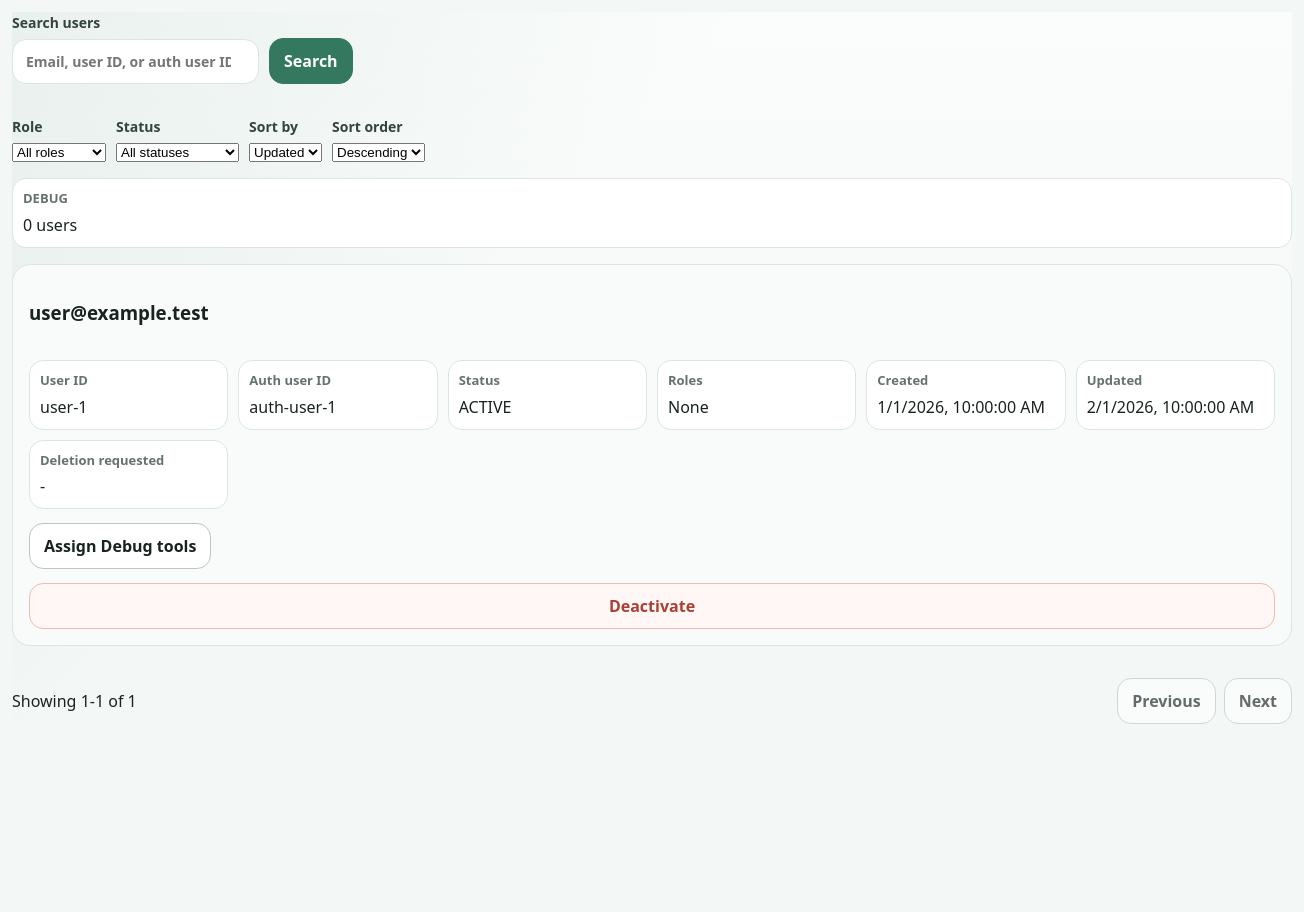
Test: UsersPage › renders backend roles and assigns and revokes them
The image size is (1304, 912).
Expected: the text "user-1" is shown, [40,396,88,418]
Expected: the text "auth-user-1" is shown, [249,396,336,418]
What coordinates should you click on to do the following:
click the button "Assign Debug tools"
I would click on:
 (120, 546)
Its box is [29,523,211,569].
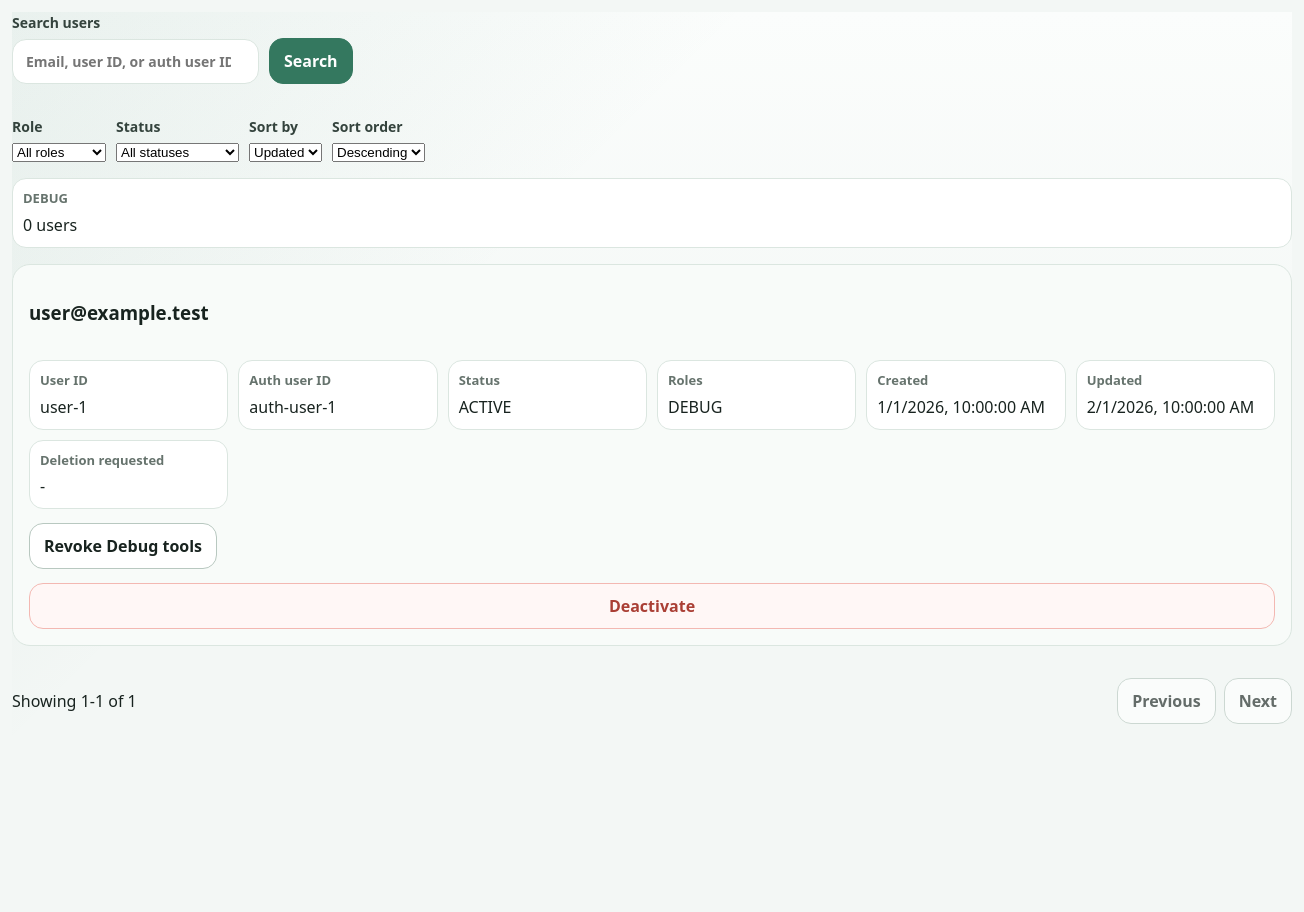
Expected: the button "Revoke Debug tools" is shown
What coordinates should you click on to do the following:
click the button "Revoke Debug tools"
I would click on:
 (123, 546)
Its box is [29,523,217,569].
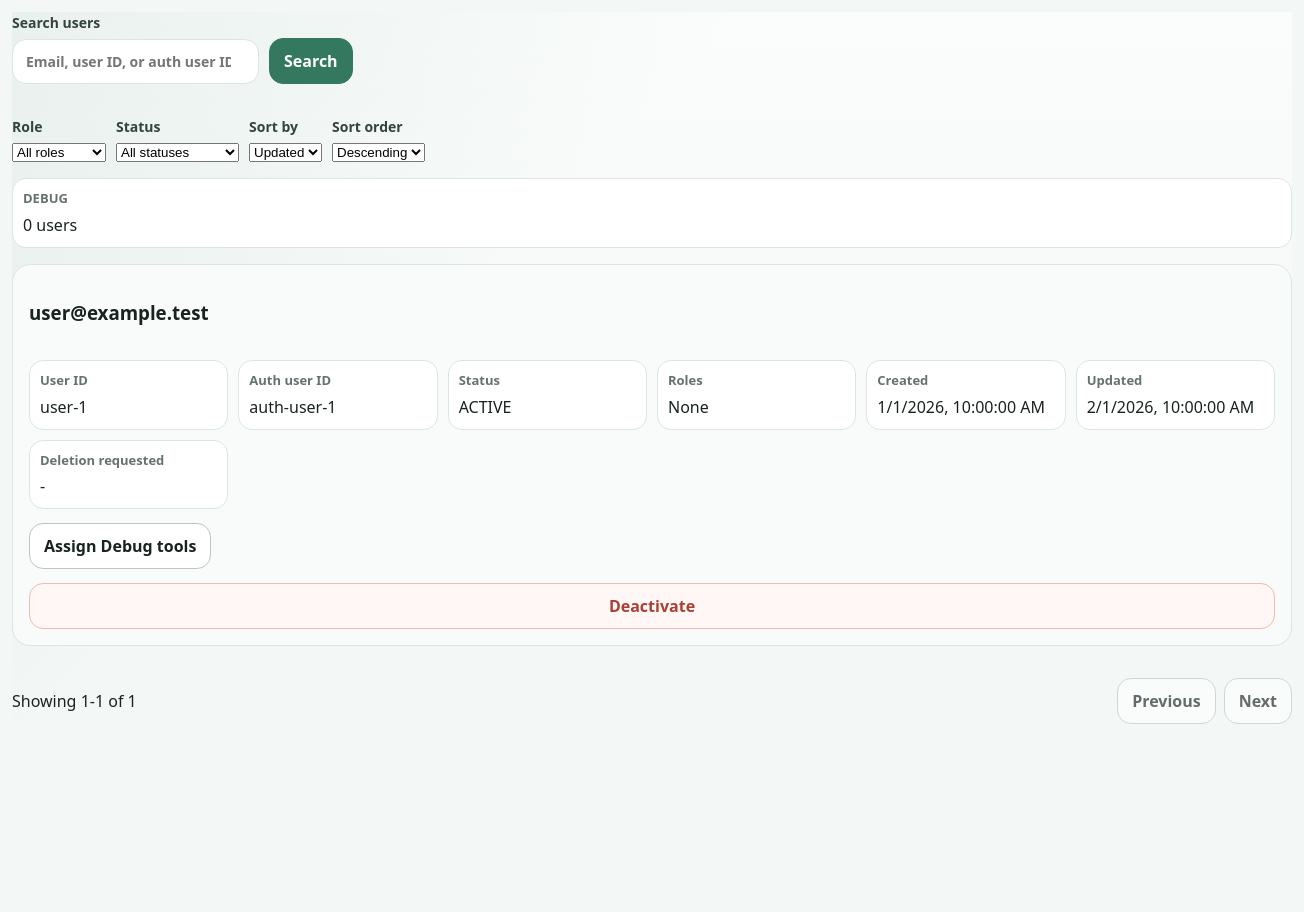
What coordinates should you click on to do the following:
click the button "Deactivate"
I would click on:
 (652, 606)
Its box is [29,583,1275,629].
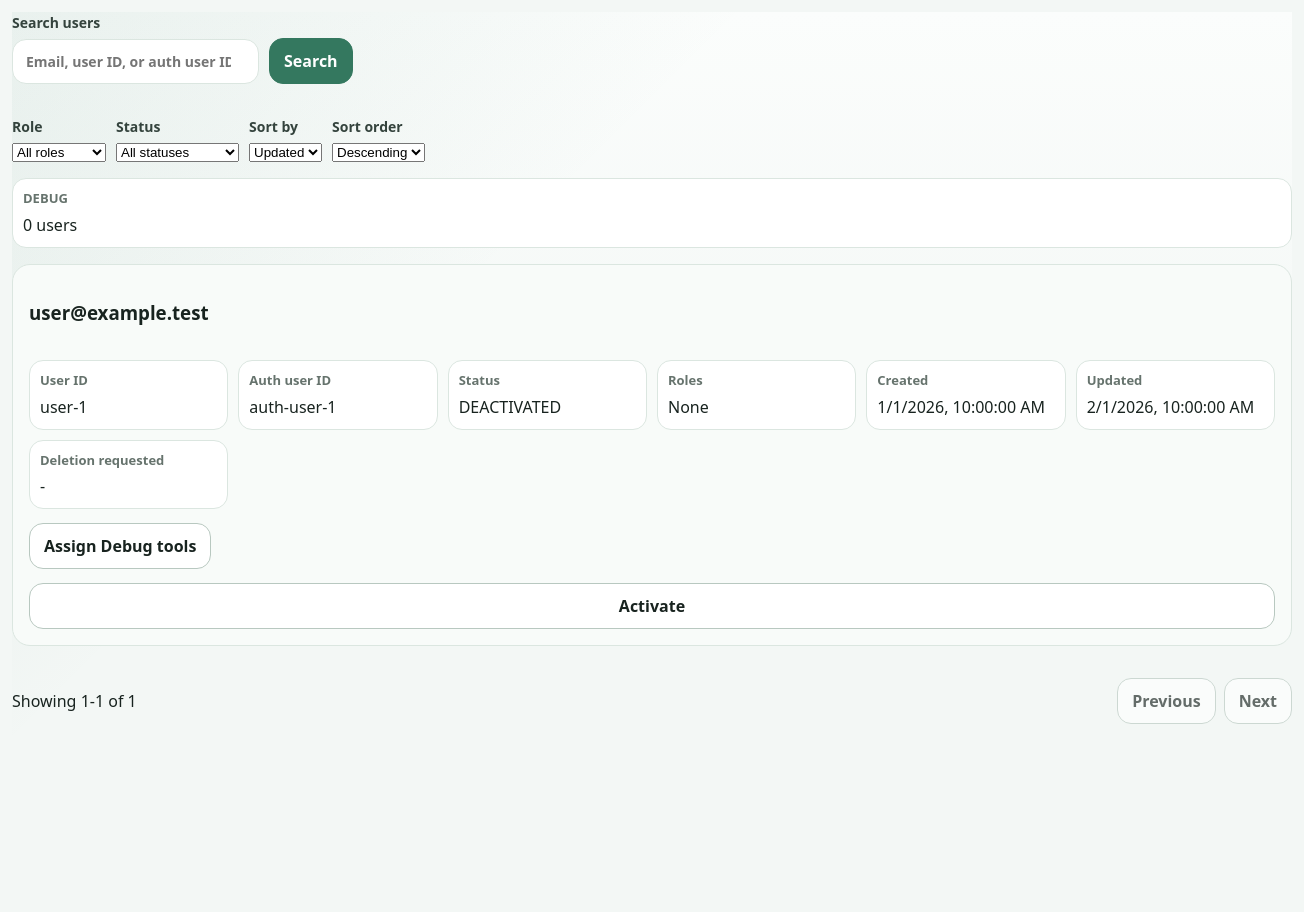
Expected: the button "Activate" is shown, [29,583,1275,629]
